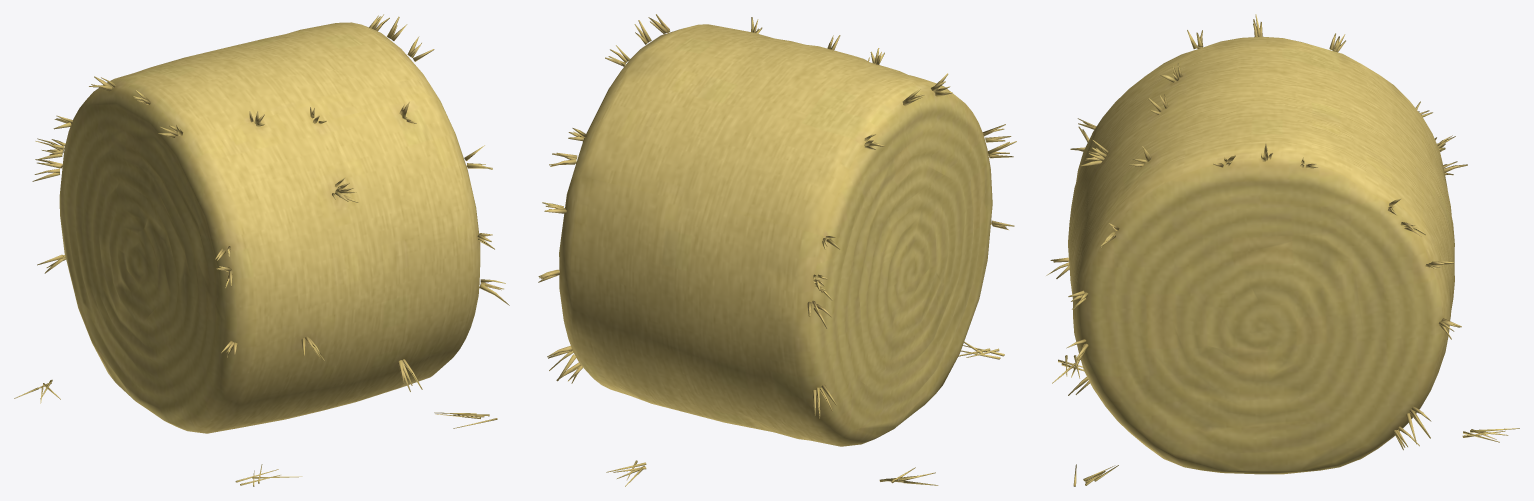
Rendered from hay-bale.glb.
The picture shows the model from 3 angles, left to right: view 1: azimuth 30°, elevation 25°; view 2: azimuth 150°, elevation 25°; view 3: azimuth 270°, elevation 25°; orthographic projection. The views are drawn at different scales.
Visible parts, largest first — view 1: hay-bale_body; view 2: hay-bale_body; view 3: hay-bale_body.
Part boxes in pixels (left/top/right/bottom): hay-bale_body: left=14, top=14, right=509, bottom=486; hay-bale_body: left=538, top=14, right=1016, bottom=486; hay-bale_body: left=1046, top=14, right=1519, bottom=486.
Bounding box in the file's own units: 1.66 × 1.51 × 1.9.
Materials: 1 (1 with a texture image).
